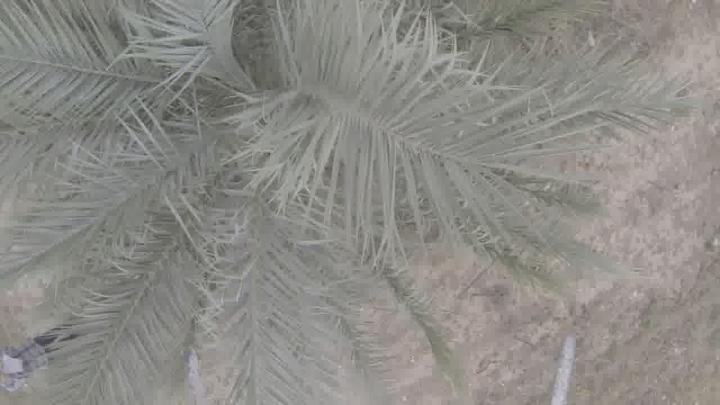Date-Palm-Crown: (28, 0, 474, 308)
